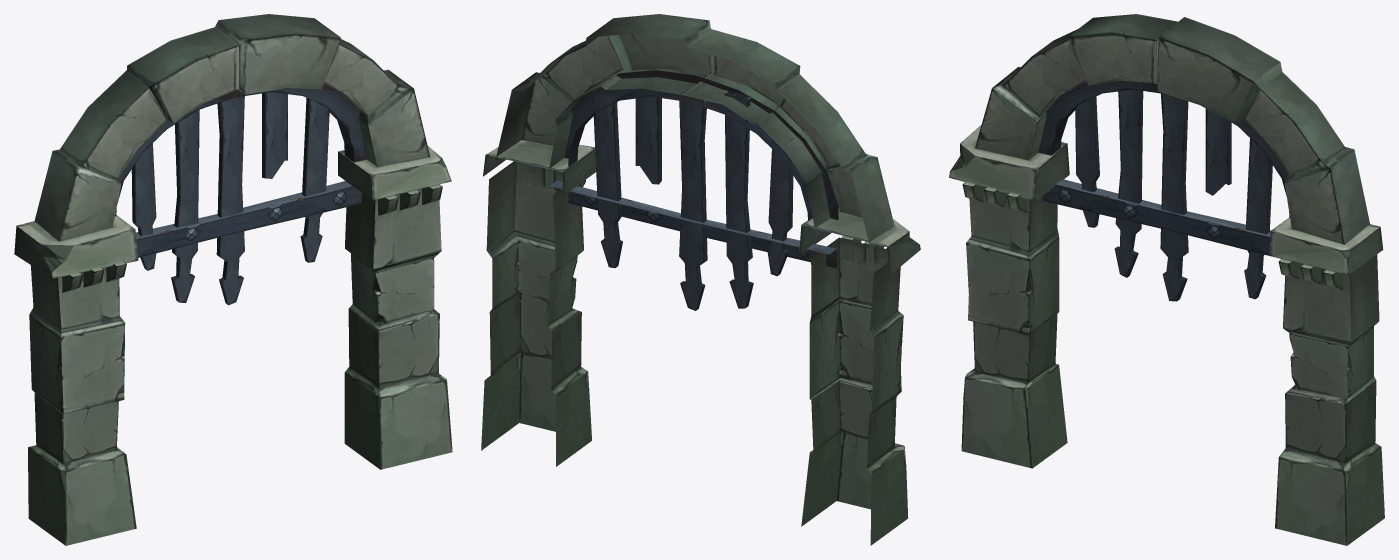
File: 2_YiZhan_ChengMen_02.FBX
3 views of the same model, side by side, from view 1: azimuth 30°, elevation 25°; view 2: azimuth 150°, elevation 25°; view 3: azimuth 330°, elevation 25° (orthographic).
Visible parts, largest first — view 1: 2_YiZhan_ChengMen_02; view 2: 2_YiZhan_ChengMen_02; view 3: 2_YiZhan_ChengMen_02.
Part boxes in pixels (bbox=[...]): 2_YiZhan_ChengMen_02: bbox=[14, 14, 452, 545]; 2_YiZhan_ChengMen_02: bbox=[481, 14, 920, 545]; 2_YiZhan_ChengMen_02: bbox=[949, 14, 1384, 545].
Bounding box in the file's own units: 770 × 830 × 133.
Materials: 1 (1 with a texture image).
